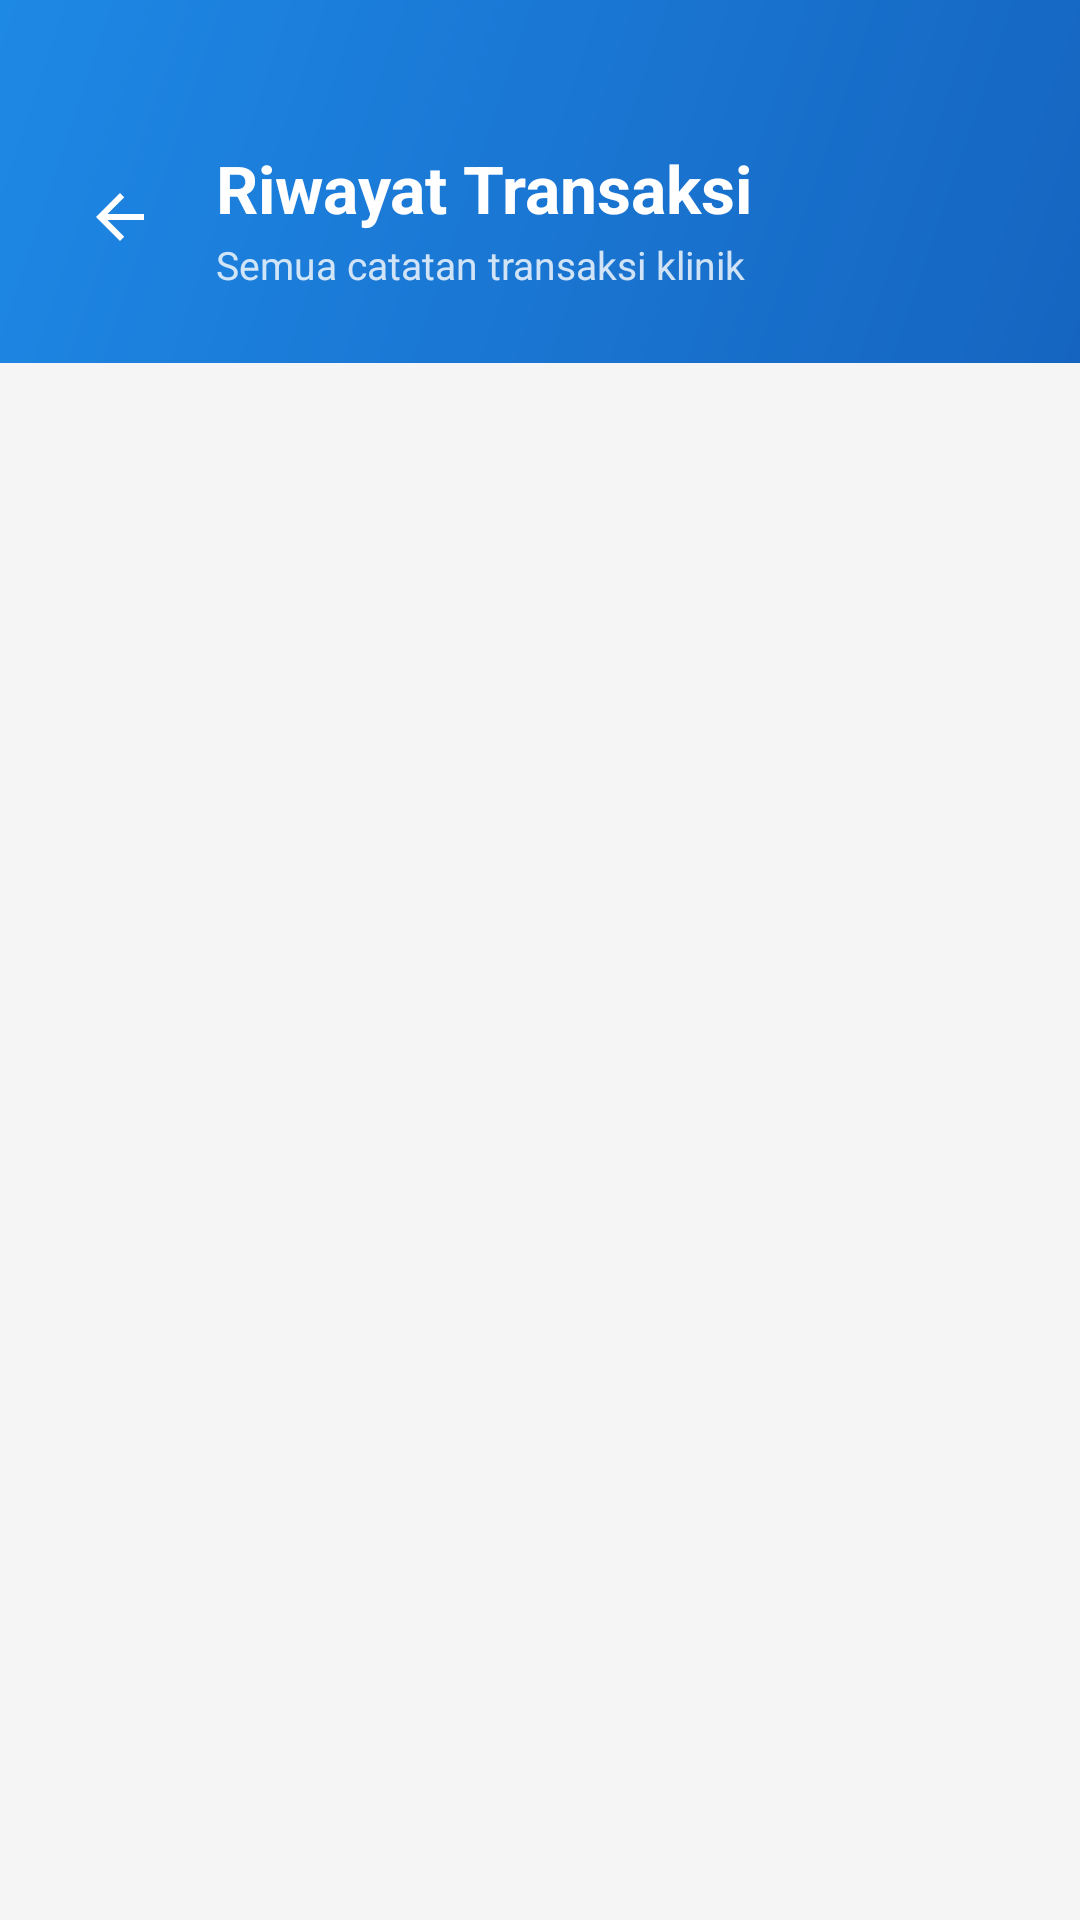

Locate icon controls on the screen. Image size 1080x1920, boxes as (left=x1, top=y1, right=x2, bottom=y2).
Back: (left=96, top=193, right=144, bottom=241)
